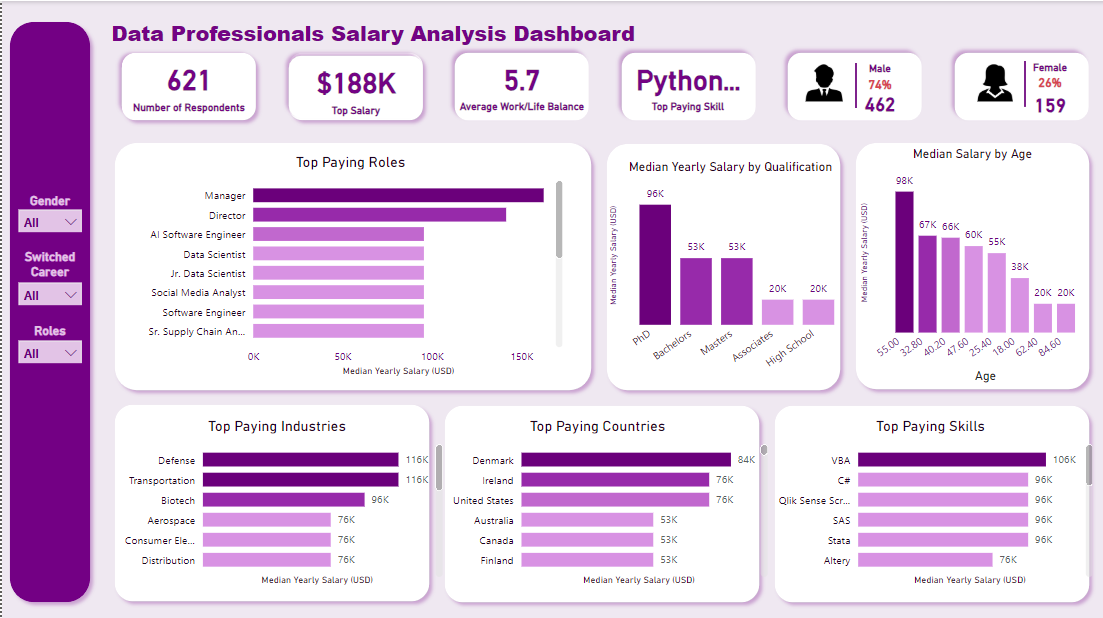

Layout of this report page (visuals, bound fields, positions):
{"tool":"powerbi","page":{"name":"Salary Analysis","canvas":[1280,720],"ordinal":0},"visuals":[{"type":"shape","box":[0,15,111.1,689.9],"z":0},{"type":"shape","box":[121.5,155.1,569.5,304.4],"z":1000},{"type":"shape","box":[121.5,458.4,382,245.4],"z":2000},{"type":"textbox","box":[121.1,15.6,653.7,43],"z":3000},{"type":"shape","box":[503.5,459.5,382,245.4],"z":4000},{"type":"shape","box":[885.5,459.5,382,245.4],"z":5000},{"type":"shape","box":[691.1,156.3,288.2,303.3],"z":6000},{"type":"shape","box":[979.3,155.1,288.2,303.3],"z":7000},{"type":"group","id":"g1","title":"Group 2","box":[130.2,50.8,173.2,96],"z":8000},{"type":"group","id":"g2","title":"Group 2","box":[322.9,50.8,173.2,96],"z":9000},{"type":"textbox","box":[139.3,108.1,155,37.8],"z":9000,"group":"g3"},{"type":"shape","box":[515.6,50.8,173.2,96.4],"z":10000},{"type":"shape","box":[708.4,50.8,173.2,96.4],"z":11000},{"type":"shape","box":[901.1,50.8,173.2,96.4],"z":12000},{"type":"shape","box":[1093.8,50.8,173.2,96.4],"z":13000},{"type":"card","title":"Number of Respondents","fields":{"Values":["Measures Table.top salary"]},"box":[345.1,63.8,130.2,58.6],"z":14000},{"type":"shape","box":[130.2,54.4,173.2,89.9],"z":14500,"group":"g1"},{"type":"card","title":"Number of Respondents","fields":{"Values":["Measures Table.Number of respondents"]},"box":[152.3,59.9,130.2,58.6],"z":15000,"group":"g3"},{"type":"card","title":"Number of Respondents","fields":{"Values":["Measures Table.Average work/life balance"]},"box":[536.5,59.9,130.2,58.6],"z":15000},{"type":"shape","box":[130.2,50.8,173.2,96],"z":16000,"group":"g1"},{"type":"shape","box":[322.9,50.8,173.2,96],"z":16000,"group":"g2"},{"type":"card","title":"Number of Respondents","fields":{"Values":["Measures Table.Top paying skill"]},"box":[729.2,59.9,130.2,58.6],"z":16000},{"type":"shape","box":[322.9,54.4,173.2,89.9],"z":16500,"group":"g2"},{"type":"card","title":"Number of Respondents","fields":{"Values":["Measures Table.Number of male respondents"]},"box":[987.4,94.9,57.9,48.6],"z":17000},{"type":"group","id":"g3","title":"Group 1","box":[139.3,59.9,155,85.9],"z":18000},{"type":"textbox","box":[332,112,155,37.8],"z":19000},{"type":"textbox","box":[515.1,107.7,173.6,38.2],"z":20000},{"type":"textbox","box":[716.2,108.1,155,37.8],"z":21000},{"type":"textbox","box":[986.2,63.7,60.2,32.4],"z":22000},{"type":"card","fields":{"Values":["Measures Table.% male"]},"box":[988.6,77.6,55.6,41.7],"z":23000},{"type":"image","box":[920.3,68.3,63.7,53.2],"z":24000},{"type":"shape","box":[952.7,71.8,71.8,52.1],"z":25000},{"type":"card","fields":{"Values":["Measures Table.% female"]},"box":[1185.5,75.6,55.4,41.6],"z":26000},{"type":"textbox","box":[1183,63,60.5,32.8],"z":27000},{"type":"shape","box":[1148.3,69.5,71.8,53.2],"z":28000},{"type":"card","title":"Number of Respondents","fields":{"Values":["Measures Table.Number of female respondents"]},"box":[1184.3,95.7,58,49.1],"z":29000},{"type":"image","box":[1118.2,68.3,62.5,53.2],"z":30000},{"type":"barChart","title":"Top Paying Roles","fields":{"Category":["Data Professional Survey.Q1 - Which Title Best Fits your Current Role?"],"Y":["Median(Data Professional Survey.Average Yearly Salary (USD))"]},"box":[152.8,175.9,501.2,262.8],"z":31000},{"type":"barChart","title":"Top Paying Industries","fields":{"Y":["Median(Data Professional Survey.Average Yearly Salary (USD))"],"Category":["Data Professional Survey.Q4 - What Industry do you work in?"]},"box":[121.5,481.5,393.6,199.1],"z":32000},{"type":"barChart","title":"Top Paying Countries","fields":{"Y":["Median(Data Professional Survey.Average Yearly Salary (USD))"],"Category":["Data Professional Survey.Q11 - Which Country do you live in?"]},"box":[487.3,481.5,404,199.1],"z":33000},{"type":"columnChart","title":"Median Yearly Salary by Qualification","fields":{"Category":["Data Professional Survey.Q12 - Highest Level of Education"],"Y":["Median(Data Professional Survey.Average Yearly Salary (USD))"]},"box":[698,184.1,290.5,262.8],"z":34000},{"type":"columnChart","title":"Median Salary by Age","fields":{"Y":["Avg(Data Professional Survey.Average Yearly Salary (USD))"],"Category":["Data Professional Survey.Q10 - Current Age (bins)"]},"box":[988.6,169,269.7,277.8],"z":35000},{"type":"barChart","title":"Top Paying Skills","fields":{"Y":["Median(Data Professional Survey.Average Yearly Salary (USD))"],"Category":["Data Professional Survey.Q5 - Favorite Programming Language"]},"box":[882.1,481.5,385.5,199.1],"z":36000},{"type":"slicer","fields":{"Values":["Data Professional Survey.Q9 - Male/Female?"]},"box":[9.3,231.5,92.6,35.9],"z":37000},{"type":"slicer","fields":{"Values":["Data Professional Survey.Q2 - Did you switch careers into Data?"]},"box":[9.3,316,92.6,35.9],"z":38000},{"type":"textbox","box":[9.3,217.6,92.6,27.8],"z":39000},{"type":"textbox","box":[9.3,282.4,92.6,45.1],"z":40000},{"type":"slicer","fields":{"Values":["Data Professional Survey.Q1 - Which Title Best Fits your Current Role?"]},"box":[9.3,383.2,92.6,35.9],"z":41000},{"type":"textbox","box":[9.3,368.1,92.6,28.9],"z":42000}]}

Visuals, with their boxes in screenshot pixels (x1, y1, x2, y2), scaled from the page's 1280x720 canvas onto the 1103x618 screenshot:
shape: (0, 13, 96, 605)
shape: (105, 133, 595, 394)
shape: (105, 393, 434, 604)
textbox: (104, 13, 668, 50)
shape: (434, 394, 763, 605)
shape: (763, 394, 1092, 605)
shape: (596, 134, 844, 394)
shape: (844, 133, 1092, 393)
"Group 2" group: (112, 44, 261, 126)
"Group 2" group: (278, 44, 427, 126)
textbox: (120, 93, 254, 125)
shape: (444, 44, 594, 126)
shape: (610, 44, 760, 126)
shape: (776, 44, 926, 126)
shape: (943, 44, 1092, 126)
"Number of Respondents" card: (297, 55, 410, 105)
shape: (112, 47, 261, 124)
"Number of Respondents" card: (131, 51, 243, 102)
"Number of Respondents" card: (462, 51, 575, 102)
shape: (112, 44, 261, 126)
shape: (278, 44, 427, 126)
"Number of Respondents" card: (628, 51, 741, 102)
shape: (278, 47, 427, 124)
"Number of Respondents" card: (851, 81, 901, 123)
"Group 1" group: (120, 51, 254, 125)
textbox: (286, 96, 420, 129)
textbox: (444, 92, 593, 125)
textbox: (617, 93, 751, 125)
textbox: (850, 55, 902, 82)
card - Measures Table.% male: (852, 67, 900, 102)
image: (793, 59, 848, 104)
shape: (821, 62, 883, 106)
card - Measures Table.% female: (1022, 65, 1069, 101)
textbox: (1019, 54, 1072, 82)
shape: (990, 60, 1051, 105)
"Number of Respondents" card: (1021, 82, 1071, 124)
image: (964, 59, 1017, 104)
"Top Paying Roles" barChart: (132, 151, 564, 377)
"Top Paying Industries" barChart: (105, 413, 444, 584)
"Top Paying Countries" barChart: (420, 413, 768, 584)
"Median Yearly Salary by Qualification" columnChart: (601, 158, 852, 384)
"Median Salary by Age" columnChart: (852, 145, 1084, 384)
"Top Paying Skills" barChart: (760, 413, 1092, 584)
slicer - Data Professional Survey.Q9 - Male/Female?: (8, 199, 88, 230)
slicer - Data Professional Survey.Q2 - Did you switch careers into Data?: (8, 271, 88, 302)
textbox: (8, 187, 88, 211)
textbox: (8, 242, 88, 281)
slicer - Data Professional Survey.Q1 - Which Title Best Fits your Current Role?: (8, 329, 88, 360)
textbox: (8, 316, 88, 341)
